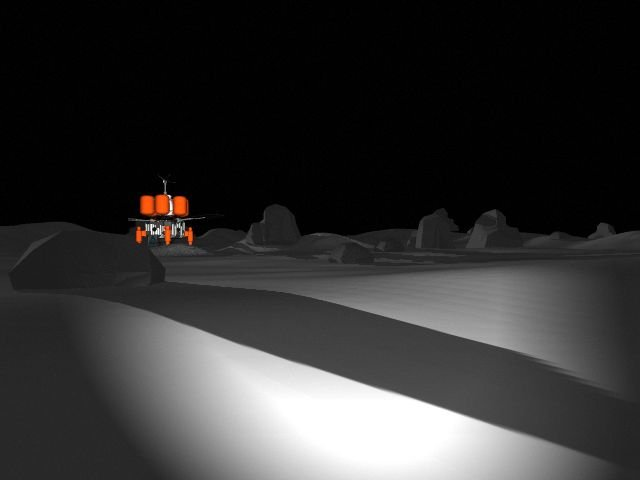homebase: (118, 177, 211, 251)
